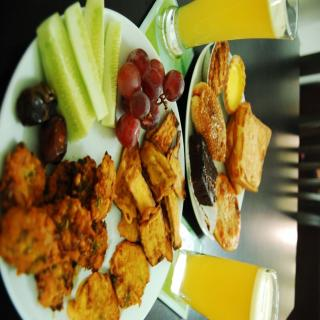Cucumber: (37, 13, 121, 142)
